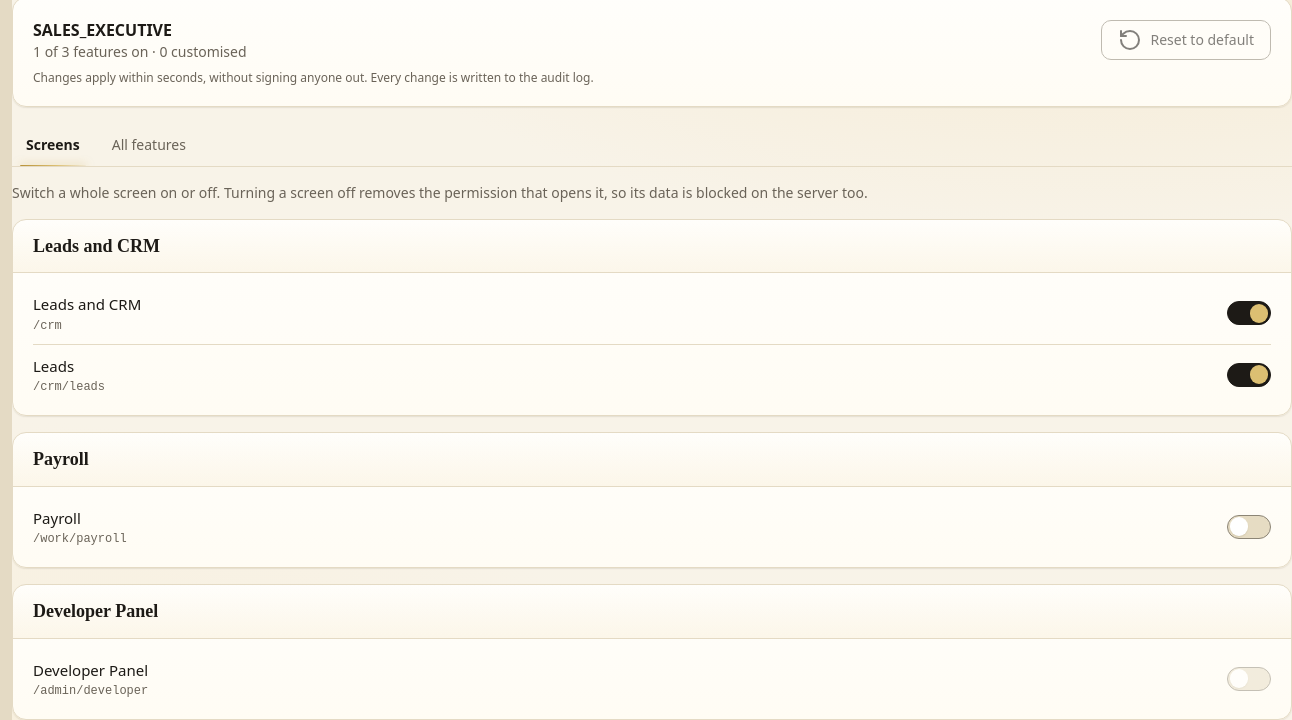
Developer Panel / Feature access page › shows each screen switched by what the role has, and turning one off sends one OFF change
(page scrolled)
Expected: the switch named "Payroll" is not checked, [1227,515,1271,539]
Click the switch named "Leads" at {"x": 1249, "y": 375}, box [1227,363,1271,387]
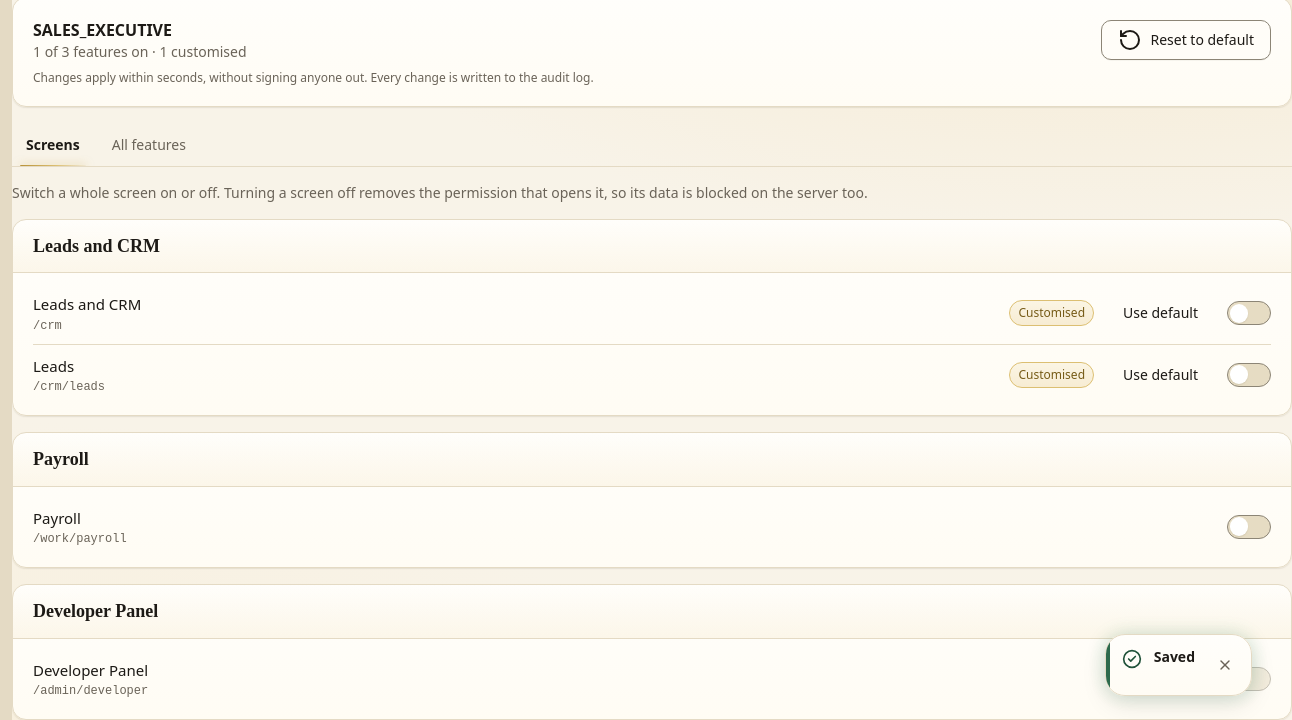
Expected: the 1st text "Customised" is shown, [1010,300,1094,326]
